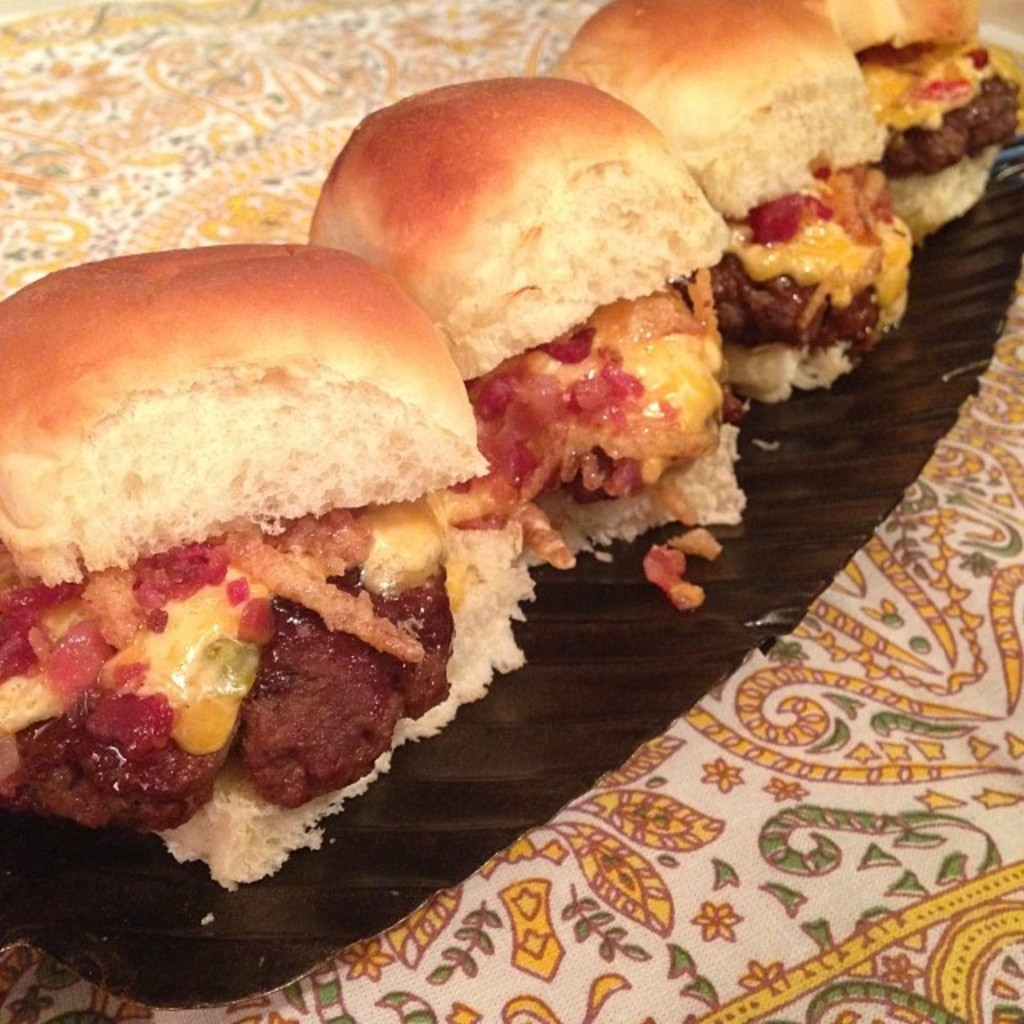Hamburger: (0, 241, 537, 878), (302, 65, 748, 571), (558, 0, 908, 406), (822, 0, 1020, 238)
